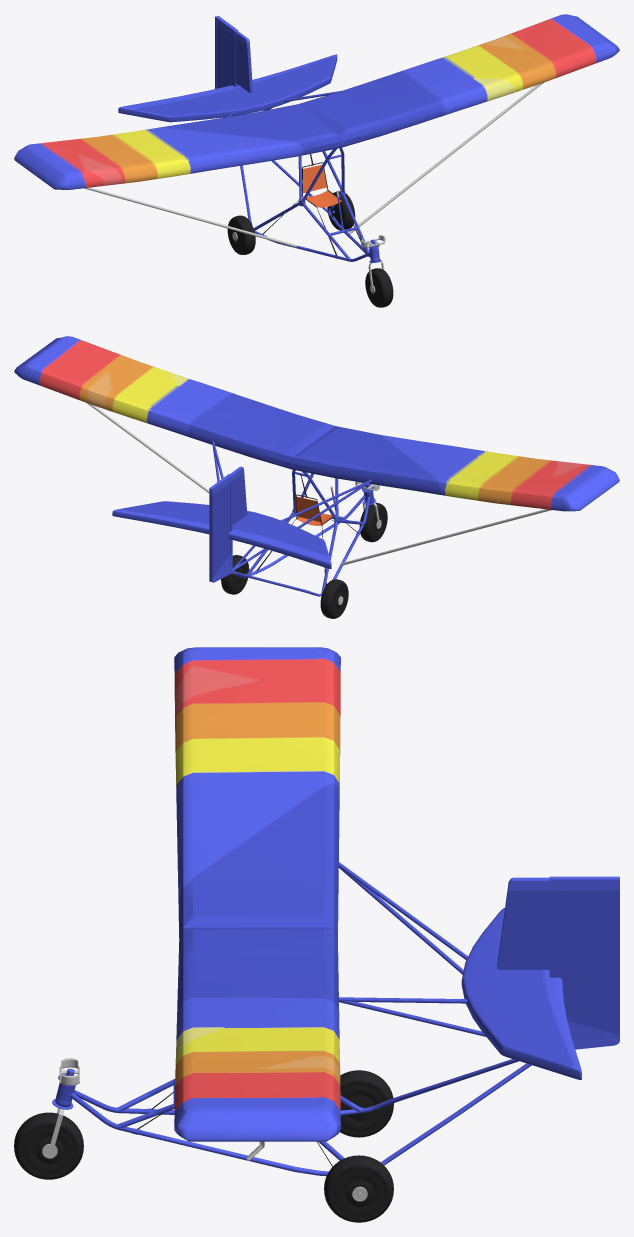
File: utralightcraft.fbx
3 renders of one model, top to bottom at view 1: azimuth 30°, elevation 25°; view 2: azimuth 150°, elevation 25°; view 3: azimuth 270°, elevation 25°, orthographic. The views are drawn at different scales.
Parts seen in each view (by area): view 1: car_fixed24:car_fixed23:models_f19:models_f18:models_f17:mod; view 2: car_fixed24:car_fixed23:models_f19:models_f18:models_f17:mod; view 3: car_fixed24:car_fixed23:models_f19:models_f18:models_f17:mod.
Part boxes in pixels (box(x1,y1,x2,y2)): car_fixed24:car_fixed23:models_f19:models_f18:models_f17:mod: box(14, 14, 619, 307); car_fixed24:car_fixed23:models_f19:models_f18:models_f17:mod: box(14, 336, 619, 618); car_fixed24:car_fixed23:models_f19:models_f18:models_f17:mod: box(14, 647, 619, 1222).
Size of the model in its own units: 25.86 by 7.46 by 13.66.
